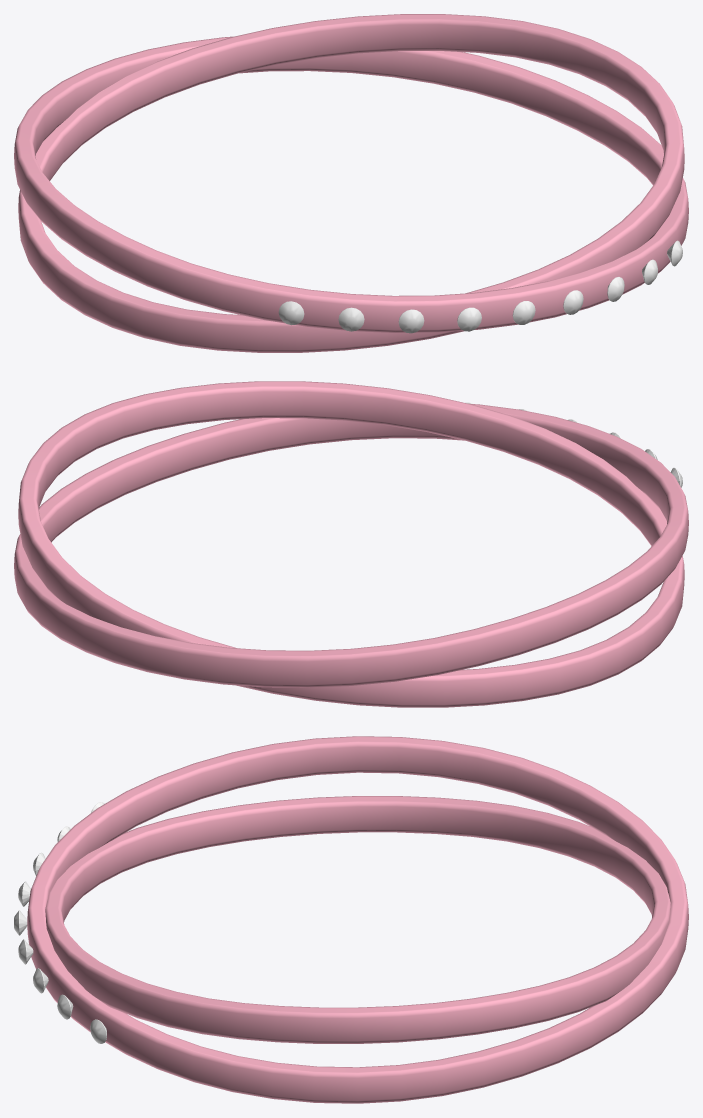
File: 1gltf.gltf
The picture shows the model from 3 angles, top to bottom: view 1: azimuth 30°, elevation 25°; view 2: azimuth 150°, elevation 25°; view 3: azimuth 270°, elevation 25°; orthographic projection.
Visible parts, largest first — view 1: Cylinder002; view 2: Cylinder002; view 3: Cylinder002.
Part boxes in pixels (x1,y1,x2,y2): Cylinder002: (14,14,688,352); Cylinder002: (14,381,688,707); Cylinder002: (14,736,688,1103).
Bounding box in the file's own units: 2.03 × 0.3076 × 2.07.
